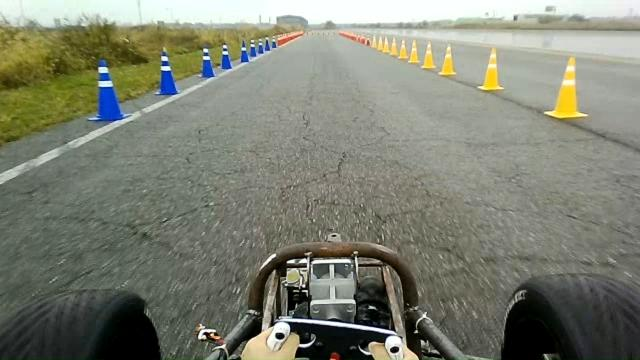blue cone: (87, 58, 130, 121), (154, 47, 180, 95), (197, 47, 216, 78), (220, 42, 233, 70), (240, 40, 250, 62), (249, 38, 257, 57)
yellow cone: (544, 56, 588, 119), (477, 47, 505, 91), (438, 44, 456, 76), (421, 41, 436, 69), (408, 39, 420, 63), (397, 39, 408, 60)
